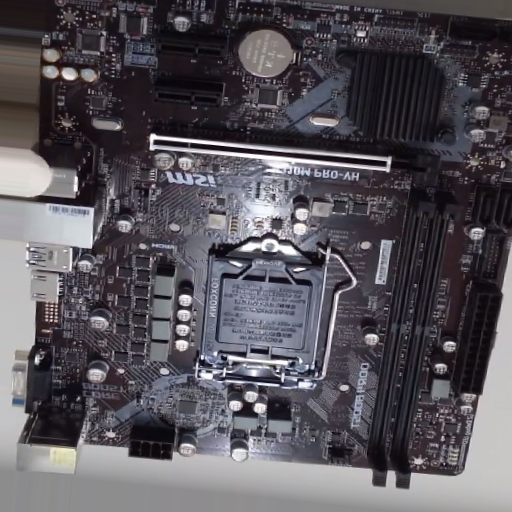CPU: (194, 237, 334, 388)
GPU: (150, 129, 436, 183)
MOTHERBOARD: (30, 1, 508, 476)
RAM: (369, 187, 461, 487)
